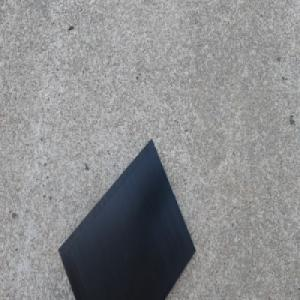PlasticPart: (56, 134, 196, 300)
